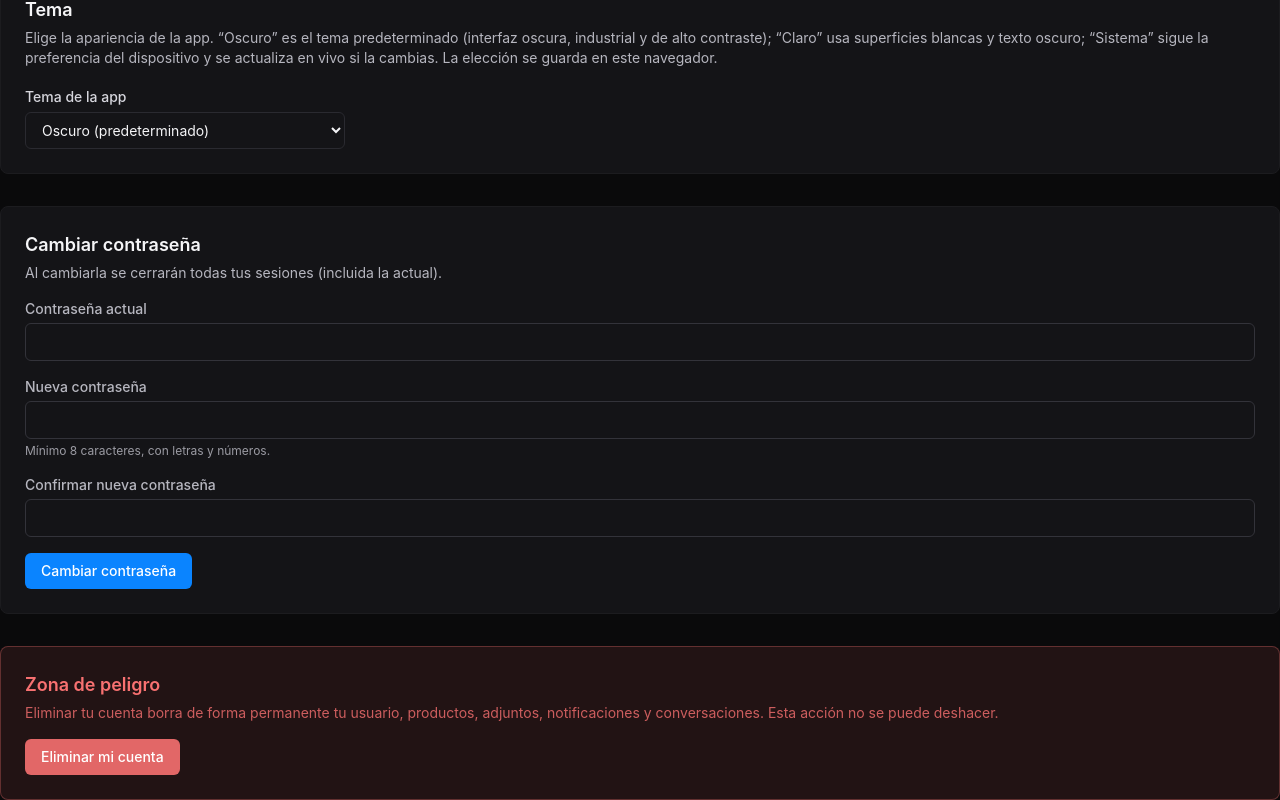
Test: SettingsPage › muestra el error si la contraseña de eliminación es incorrecta
This screenshot has width=1280, height=800.
(page scrolled)
Click the button "Eliminar mi cuenta" at (102, 757), box [25,739,180,775]
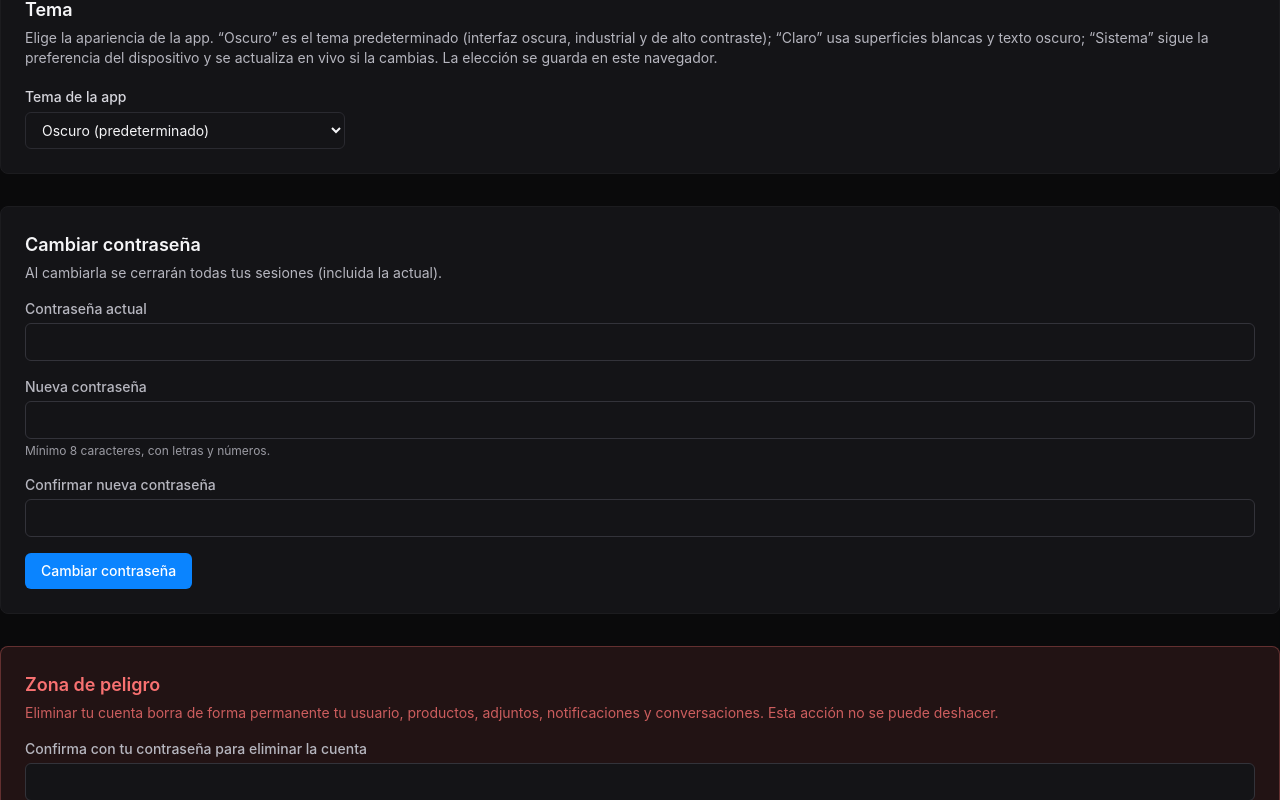
Type "WrongPass1" into the password field labelled "Confirma con tu contraseña para eliminar la cuenta" at (640, 782), box [25,763,1255,799]
(page scrolled)
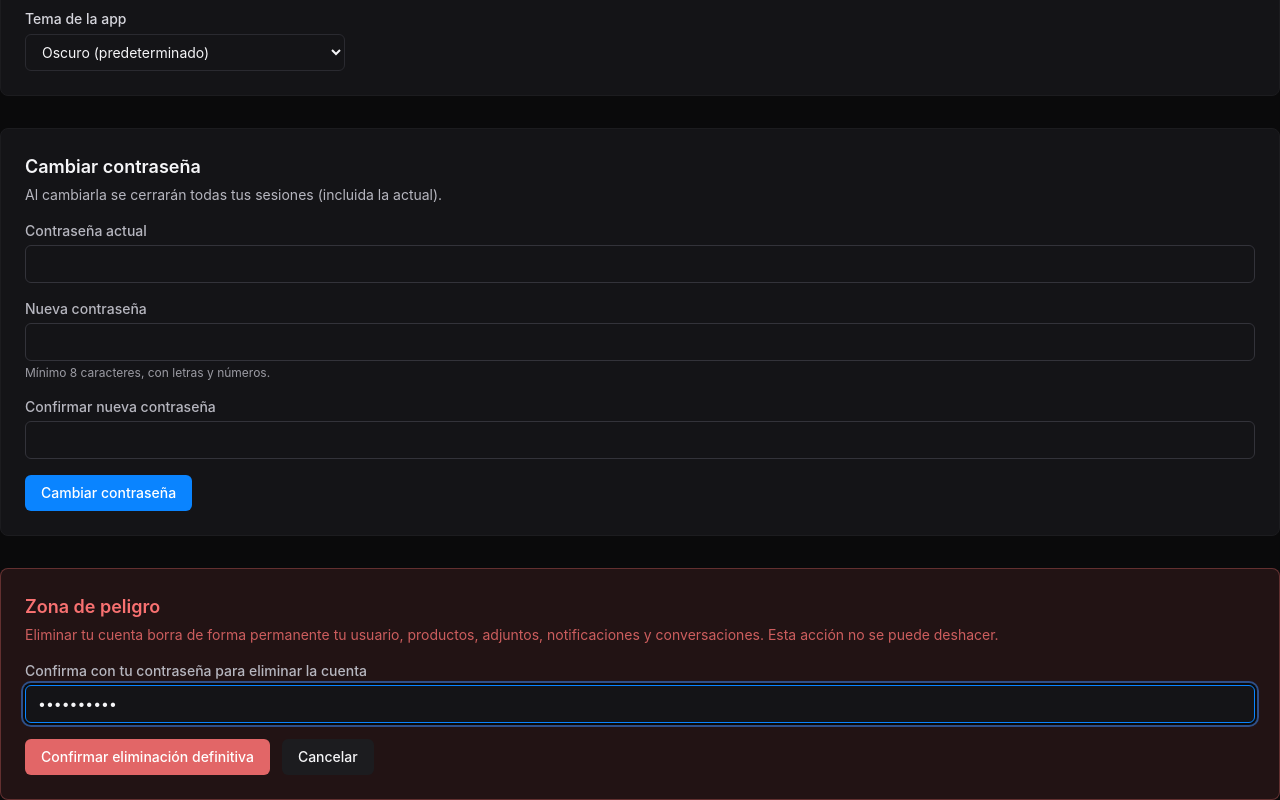
Click the button "Confirmar eliminación definitiva" at (147, 757), box [25,739,270,775]
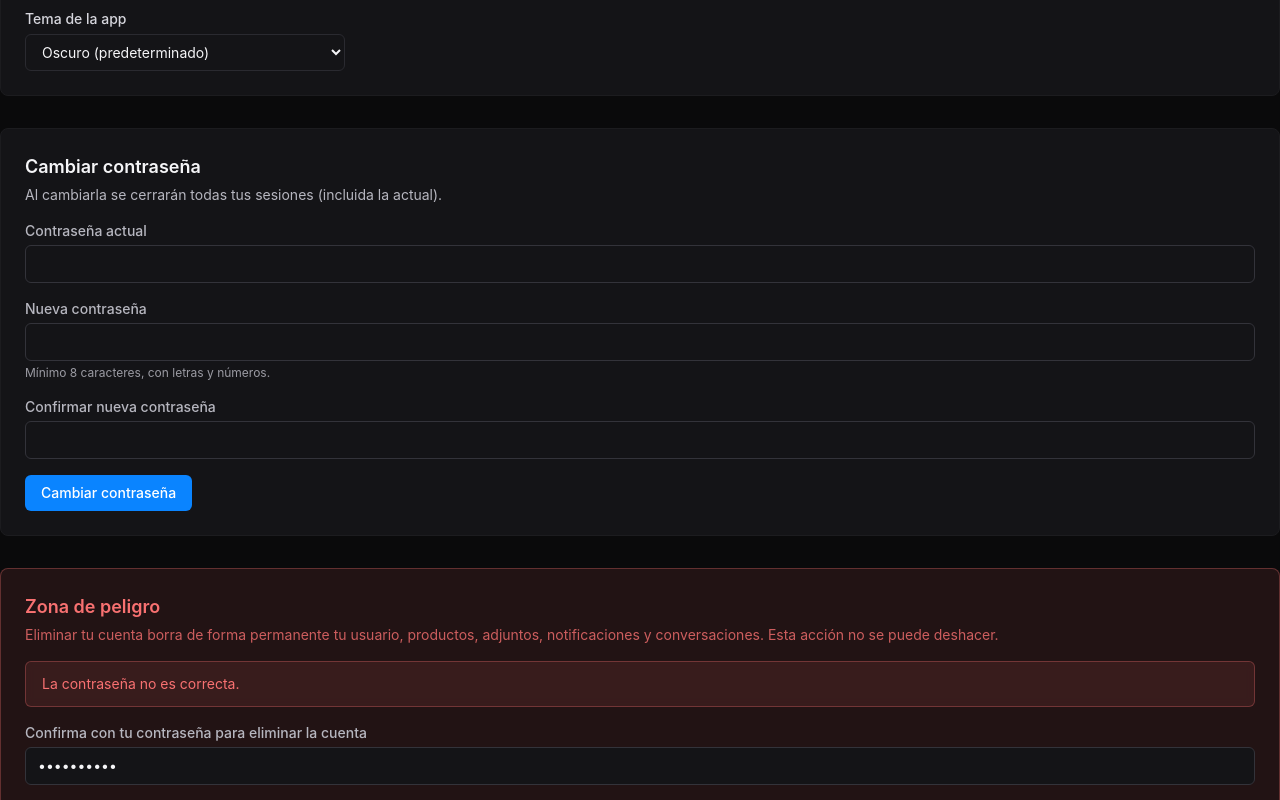
Expected: the text "La contraseña no es correcta." is shown, [25,661,1255,707]
